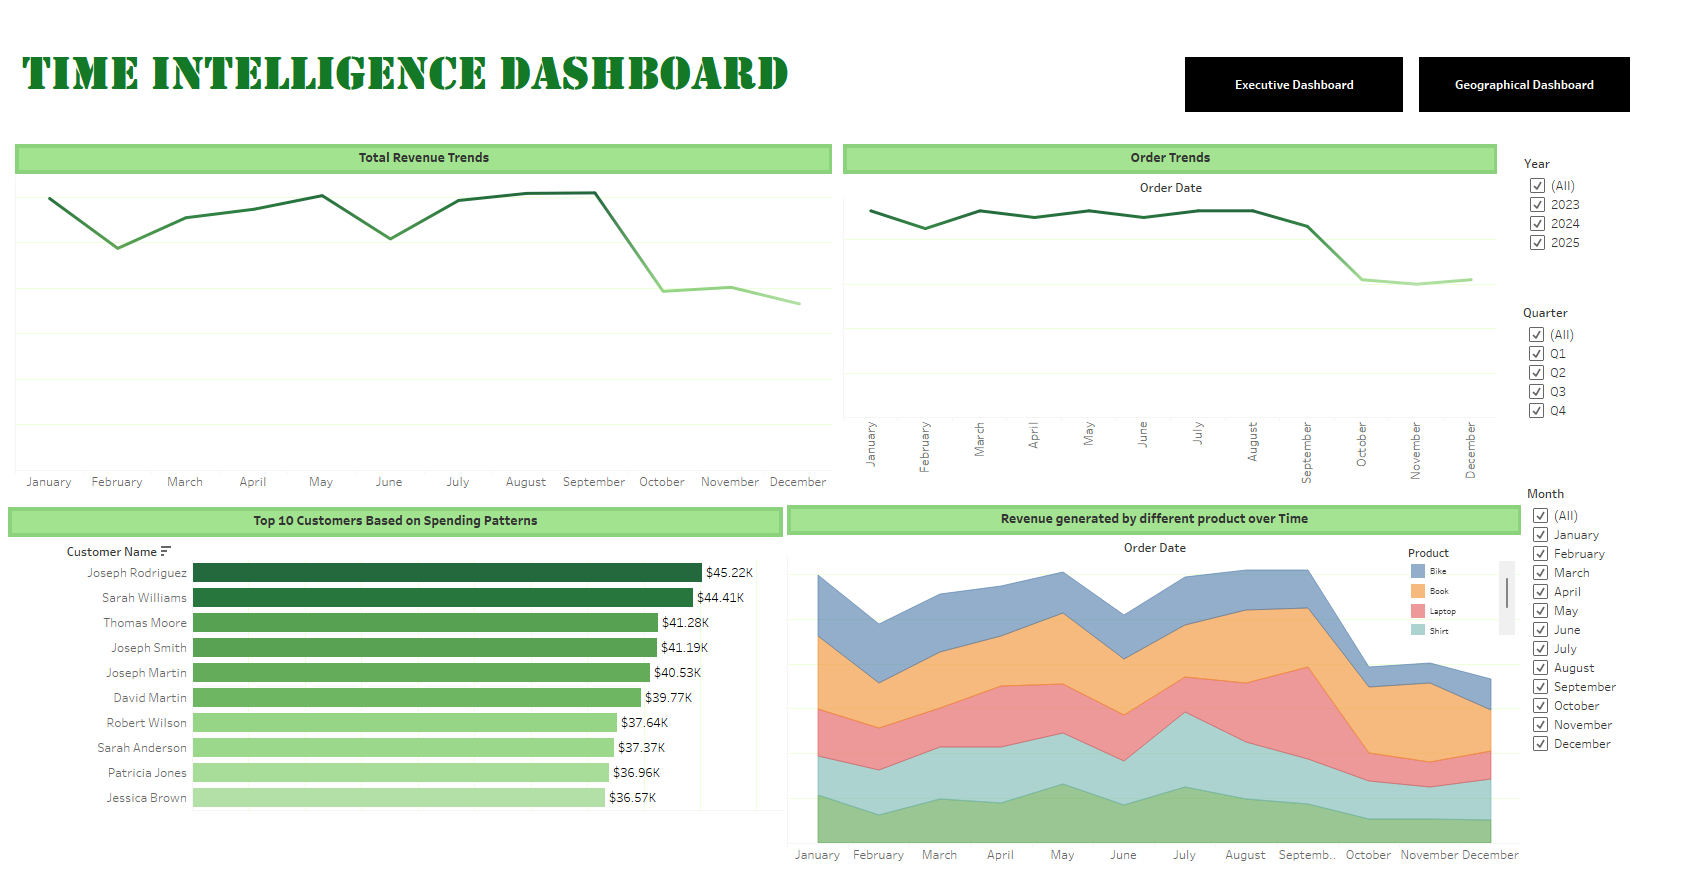

What the dashboard file says about the page in this screenshot:
{"tool":"tableau","page":{"name":"Time Intelligence Dashboard","canvas":[1000,1000],"units":"permille","ordinal":2},"visuals":[{"type":"text","box":[14.6,20,979.9,138.7]},{"type":"dashboard-object","box":[696.7,70.5,127.7,61.1]},{"type":"dashboard-object","box":[834,70.5,123.4,61.1]},{"type":"worksheet","title":"Total Revenue Trends","mark":"Automatic","rows":["Calculation_2172705361947271177"],"cols":["OrderDate"],"box":[12.2,166.9,478.4,387.8]},{"type":"worksheet","title":"Order Trends","mark":"Automatic","rows":["OrderID"],"cols":["OrderDate"],"box":[496.7,166.9,383,393.7]},{"type":"filter","title":"Total Revenue Trends","param":"[federated.15epve71f8ao6w1chxbvb10y6p53].[yr:OrderDate:ok]","box":[895.4,179.8,97.3,141]},{"type":"filter","title":"Revenue generated by different product over Time","param":"[federated.15epve71f8ao6w1chxbvb10y6p53].[qr:OrderDate:ok]","box":[894.8,345.5,97.3,168]},{"type":"filter","title":"Customer Spending Patterns","param":"[federated.15epve71f8ao6w1chxbvb10y6p53].[mn:OrderDate:ok]","box":[897.3,547.6,97.3,426.6]},{"type":"worksheet","title":"Revenue generated by different product over Time","mark":"Area","rows":["Calculation_2172705361947271177"],"cols":["OrderDate"],"box":[463.8,569.9,429.8,400.7]},{"type":"worksheet","title":"Customer Spending Patterns","mark":"Automatic","rows":["CustomerName"],"cols":["TotalSpent"],"box":[7.9,572.3,453.5,380.7]},{"type":"legend","title":"Revenue generated by different product over Time","param":"[federated.15epve71f8ao6w1chxbvb10y6p53].[none:Product:nk]","box":[827.4,614.6,63.8,101.1]}]}

Visuals, with their boxes on the dashboard's canvas, which has no fixed pixel size, in thousandths of its width and height (x1, y1, x2, y2). These are canvas units, not pixel positions in the 1685x879 screenshot, which may show the page scaled, cropped or inside an application window:
text: (15,20,994,159)
dashboard-object: (697,70,824,132)
dashboard-object: (834,70,957,132)
"Total Revenue Trends" worksheet: (12,167,491,555)
"Order Trends" worksheet: (497,167,880,561)
"Total Revenue Trends" filter: (895,180,993,321)
"Revenue generated by different product over Time" filter: (895,346,992,514)
"Customer Spending Patterns" filter: (897,548,995,974)
"Revenue generated by different product over Time" worksheet (Area marks): (464,570,894,971)
"Customer Spending Patterns" worksheet: (8,572,461,953)
"Revenue generated by different product over Time" legend: (827,615,891,716)
